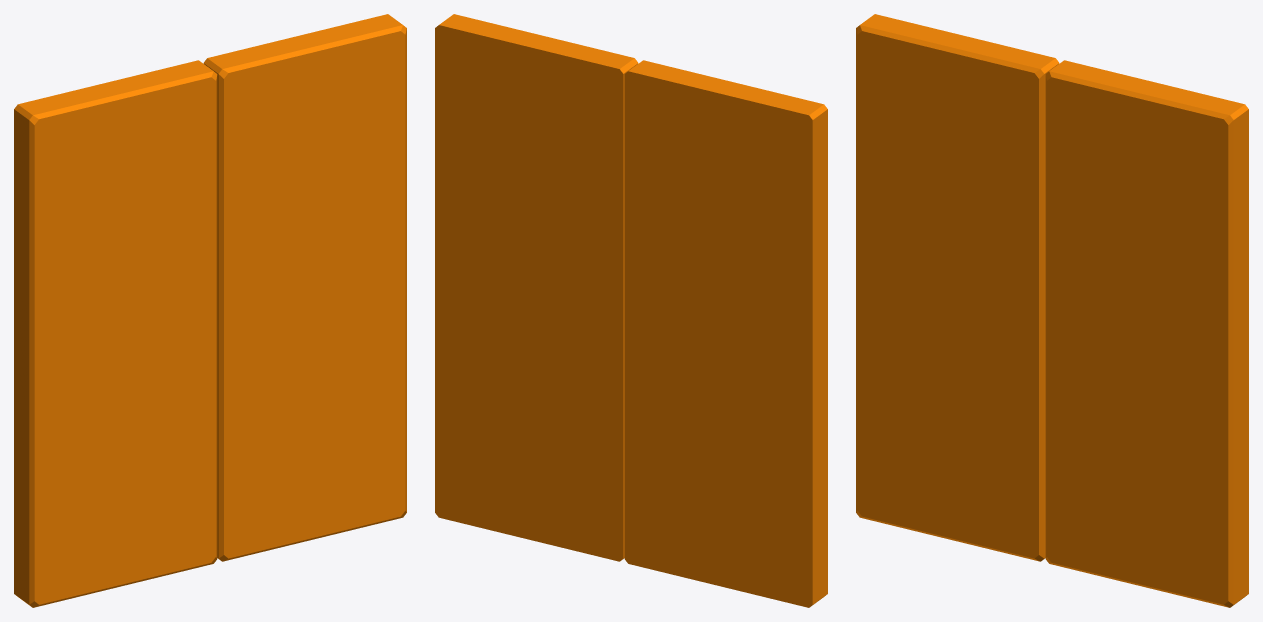
File: SM_Porte_03.fbx
3 views of the same model, side by side, from view 1: azimuth 30°, elevation 25°; view 2: azimuth 150°, elevation 25°; view 3: azimuth 330°, elevation 25° (orthographic).
Parts seen in each view (by area): view 1: Porte_04_l001, Porte_03_l001; view 2: Porte_04_l001, Porte_03_l001; view 3: Porte_03_l001, Porte_04_l001.
Part boxes in pixels (bbox=[...]): Porte_04_l001: bbox=[14, 60, 217, 607]; Porte_03_l001: bbox=[203, 14, 406, 561]; Porte_04_l001: bbox=[624, 60, 827, 607]; Porte_03_l001: bbox=[435, 14, 638, 561]; Porte_03_l001: bbox=[1045, 60, 1248, 607]; Porte_04_l001: bbox=[856, 14, 1059, 561].
Size of the model in its own units: 321 by 400 by 25.06.
